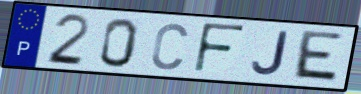0: (98, 16, 142, 69)
2: (46, 12, 92, 67)
C: (149, 20, 190, 71)
E: (289, 29, 345, 85)
F: (191, 20, 248, 76)
J: (249, 30, 291, 78)
